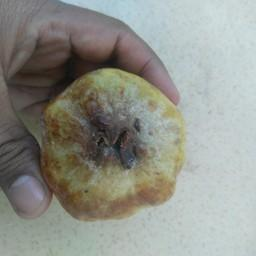Bad_guava: (43, 63, 184, 219)
